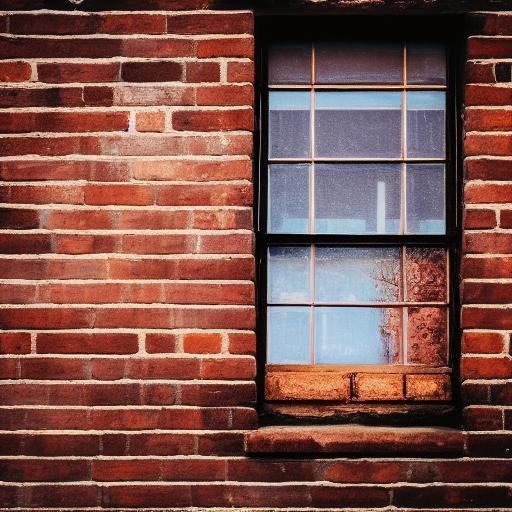Window: (241, 10, 473, 458)
